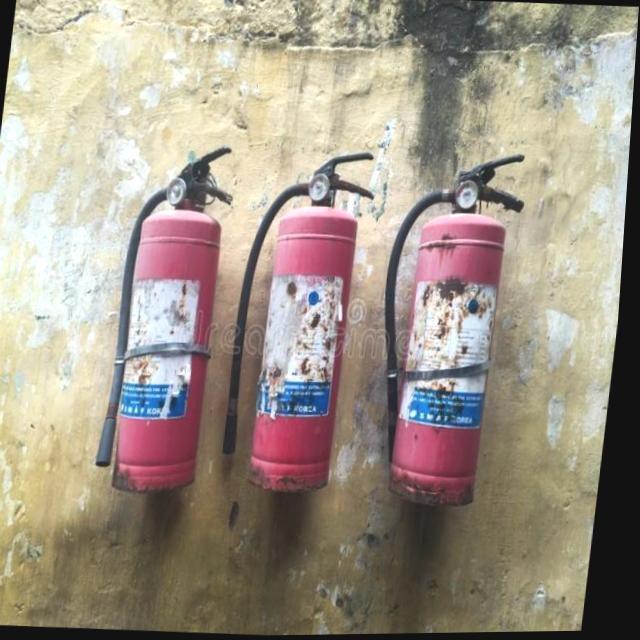FireExtinguisher: (364, 144, 537, 518), (219, 146, 387, 503), (92, 138, 247, 505)
